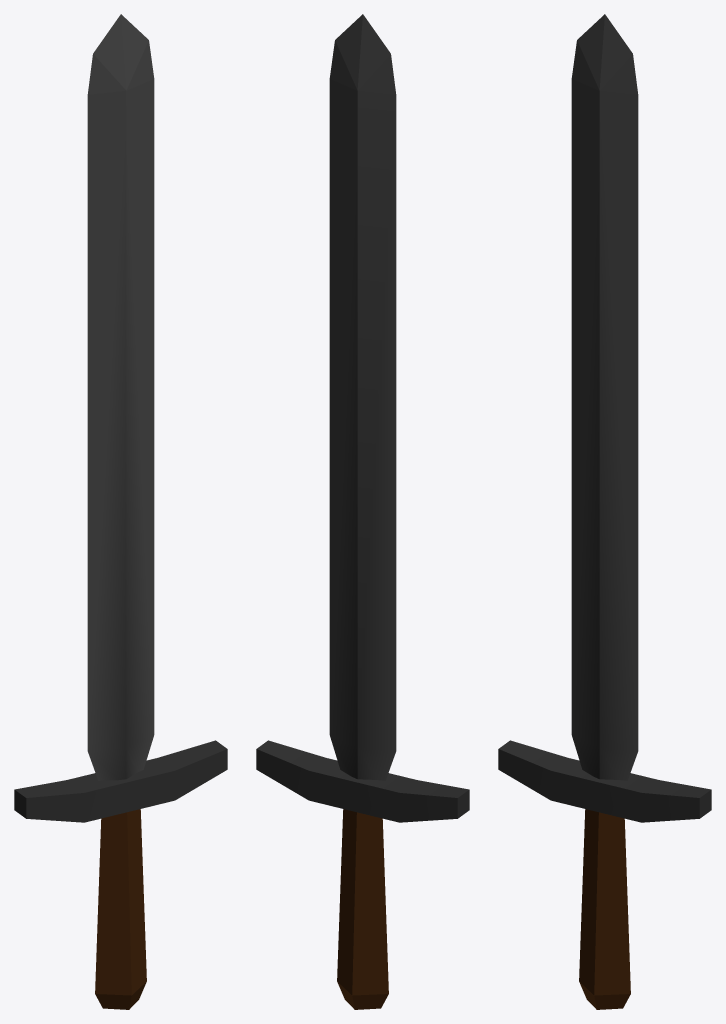
Rendered from Knight_2HSword.fbx.
3 renders of one model, left to right at view 1: azimuth 30°, elevation 25°; view 2: azimuth 150°, elevation 25°; view 3: azimuth 330°, elevation 25°, orthographic.
Parts seen in each view (by area): view 1: Knight_2HSword; view 2: Knight_2HSword; view 3: Knight_2HSword.
Boxes of the visible parts, left/top/right/bottom form: Knight_2HSword: left=14, top=14, right=227, bottom=1009; Knight_2HSword: left=256, top=14, right=469, bottom=1009; Knight_2HSword: left=498, top=14, right=711, bottom=1009.
Size of the model in its own units: 0.6159 by 2.89 by 0.114.
